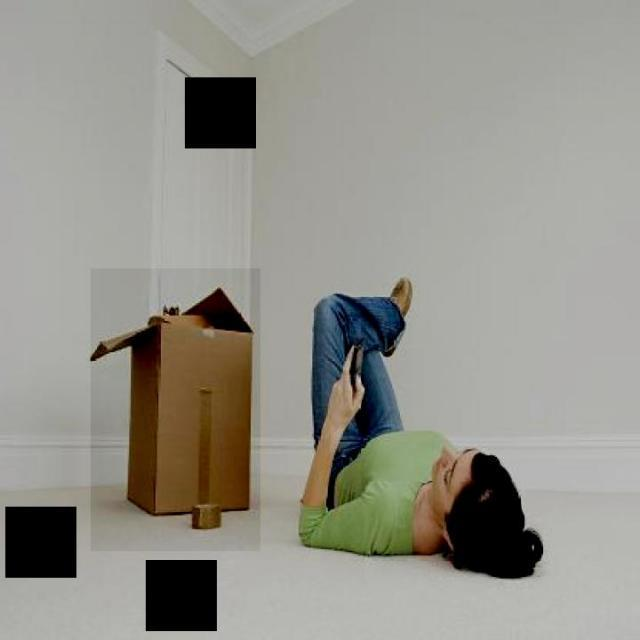box: (90, 268, 260, 552)
